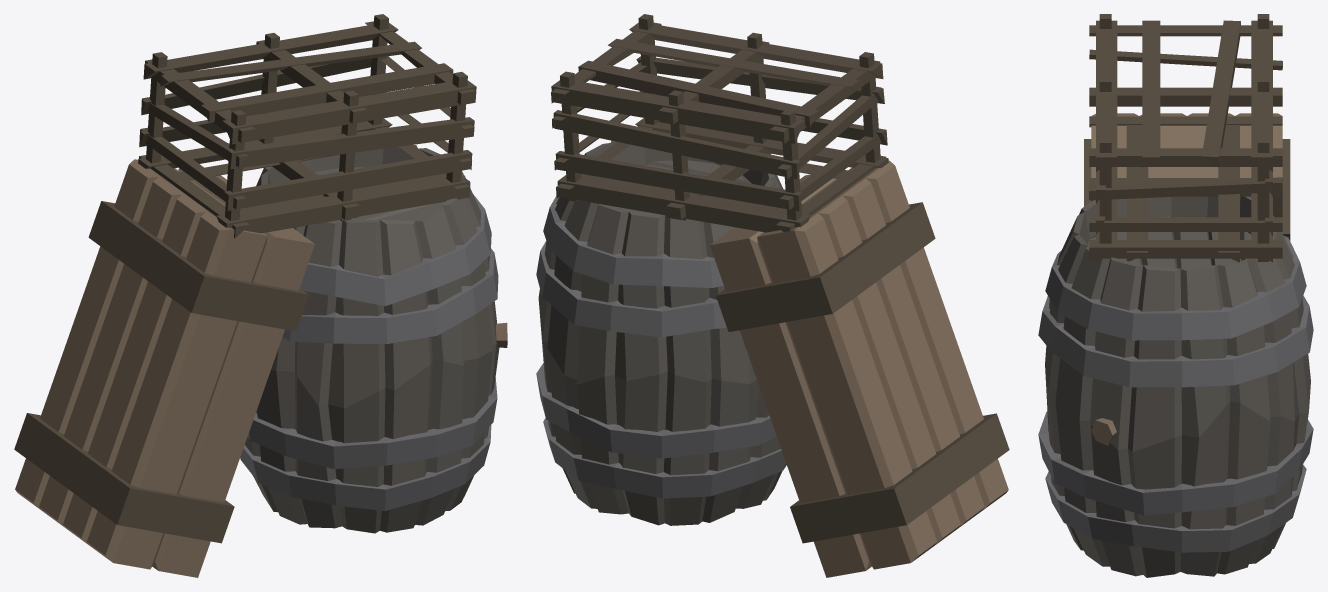
The model's file is SM_Prop_Stack_03.fbx.
3 views of the same model, side by side, from view 1: azimuth 30°, elevation 25°; view 2: azimuth 150°, elevation 25°; view 3: azimuth 270°, elevation 25° (orthographic).
Visible parts, largest first — view 1: SM_Prop_Stack_03; view 2: SM_Prop_Stack_03; view 3: SM_Prop_Stack_03.
Boxes of the visible parts, x1,y1,x2,y2 form: SM_Prop_Stack_03: [14, 14, 507, 577]; SM_Prop_Stack_03: [536, 14, 1009, 577]; SM_Prop_Stack_03: [1038, 14, 1313, 577].
Size of the model in its own units: 1.34 by 1.38 by 0.7689.
